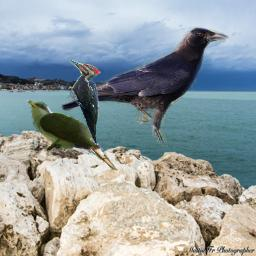Crow: (59, 26, 230, 149)
Cuckoo: (25, 100, 118, 171)
Woodpecker: (68, 59, 101, 145)
